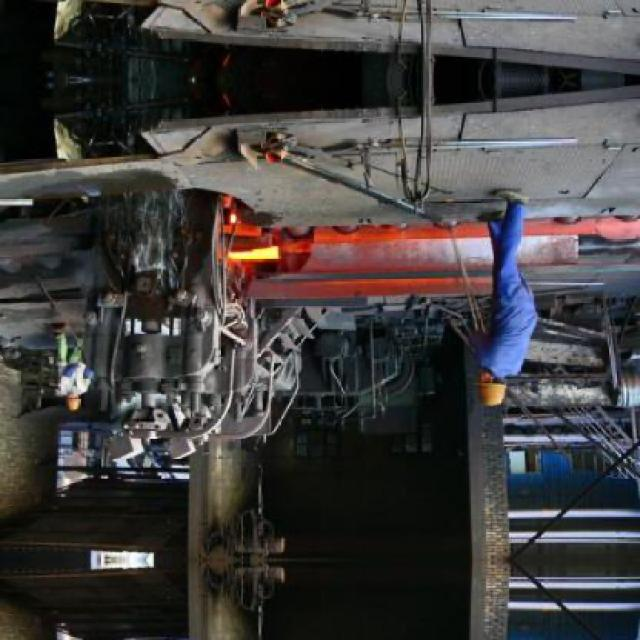con casco: (462, 364, 525, 420)
